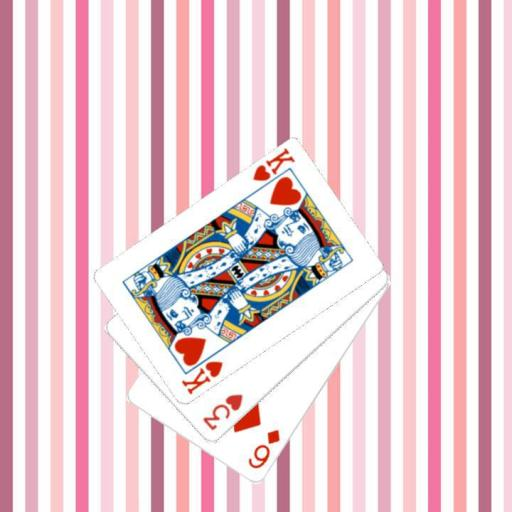3H: (199, 391, 245, 432)
6D: (245, 427, 282, 472)
KH: (178, 358, 225, 397), (249, 145, 296, 184)
